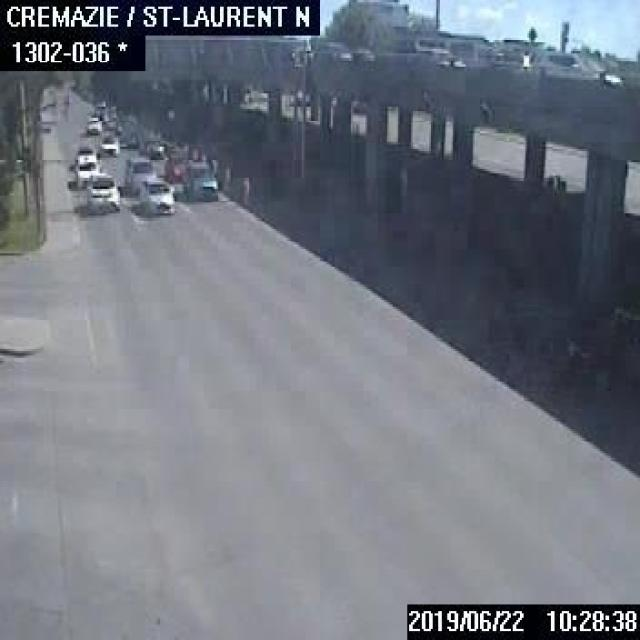construction: (240, 174, 249, 204), (222, 167, 231, 193)
vehicle: (558, 309, 638, 384), (540, 44, 618, 84), (179, 160, 217, 200), (85, 170, 119, 214), (136, 175, 174, 214), (122, 154, 158, 192), (70, 152, 102, 183), (163, 153, 187, 180), (95, 130, 118, 154), (140, 136, 163, 158), (84, 115, 100, 132)
